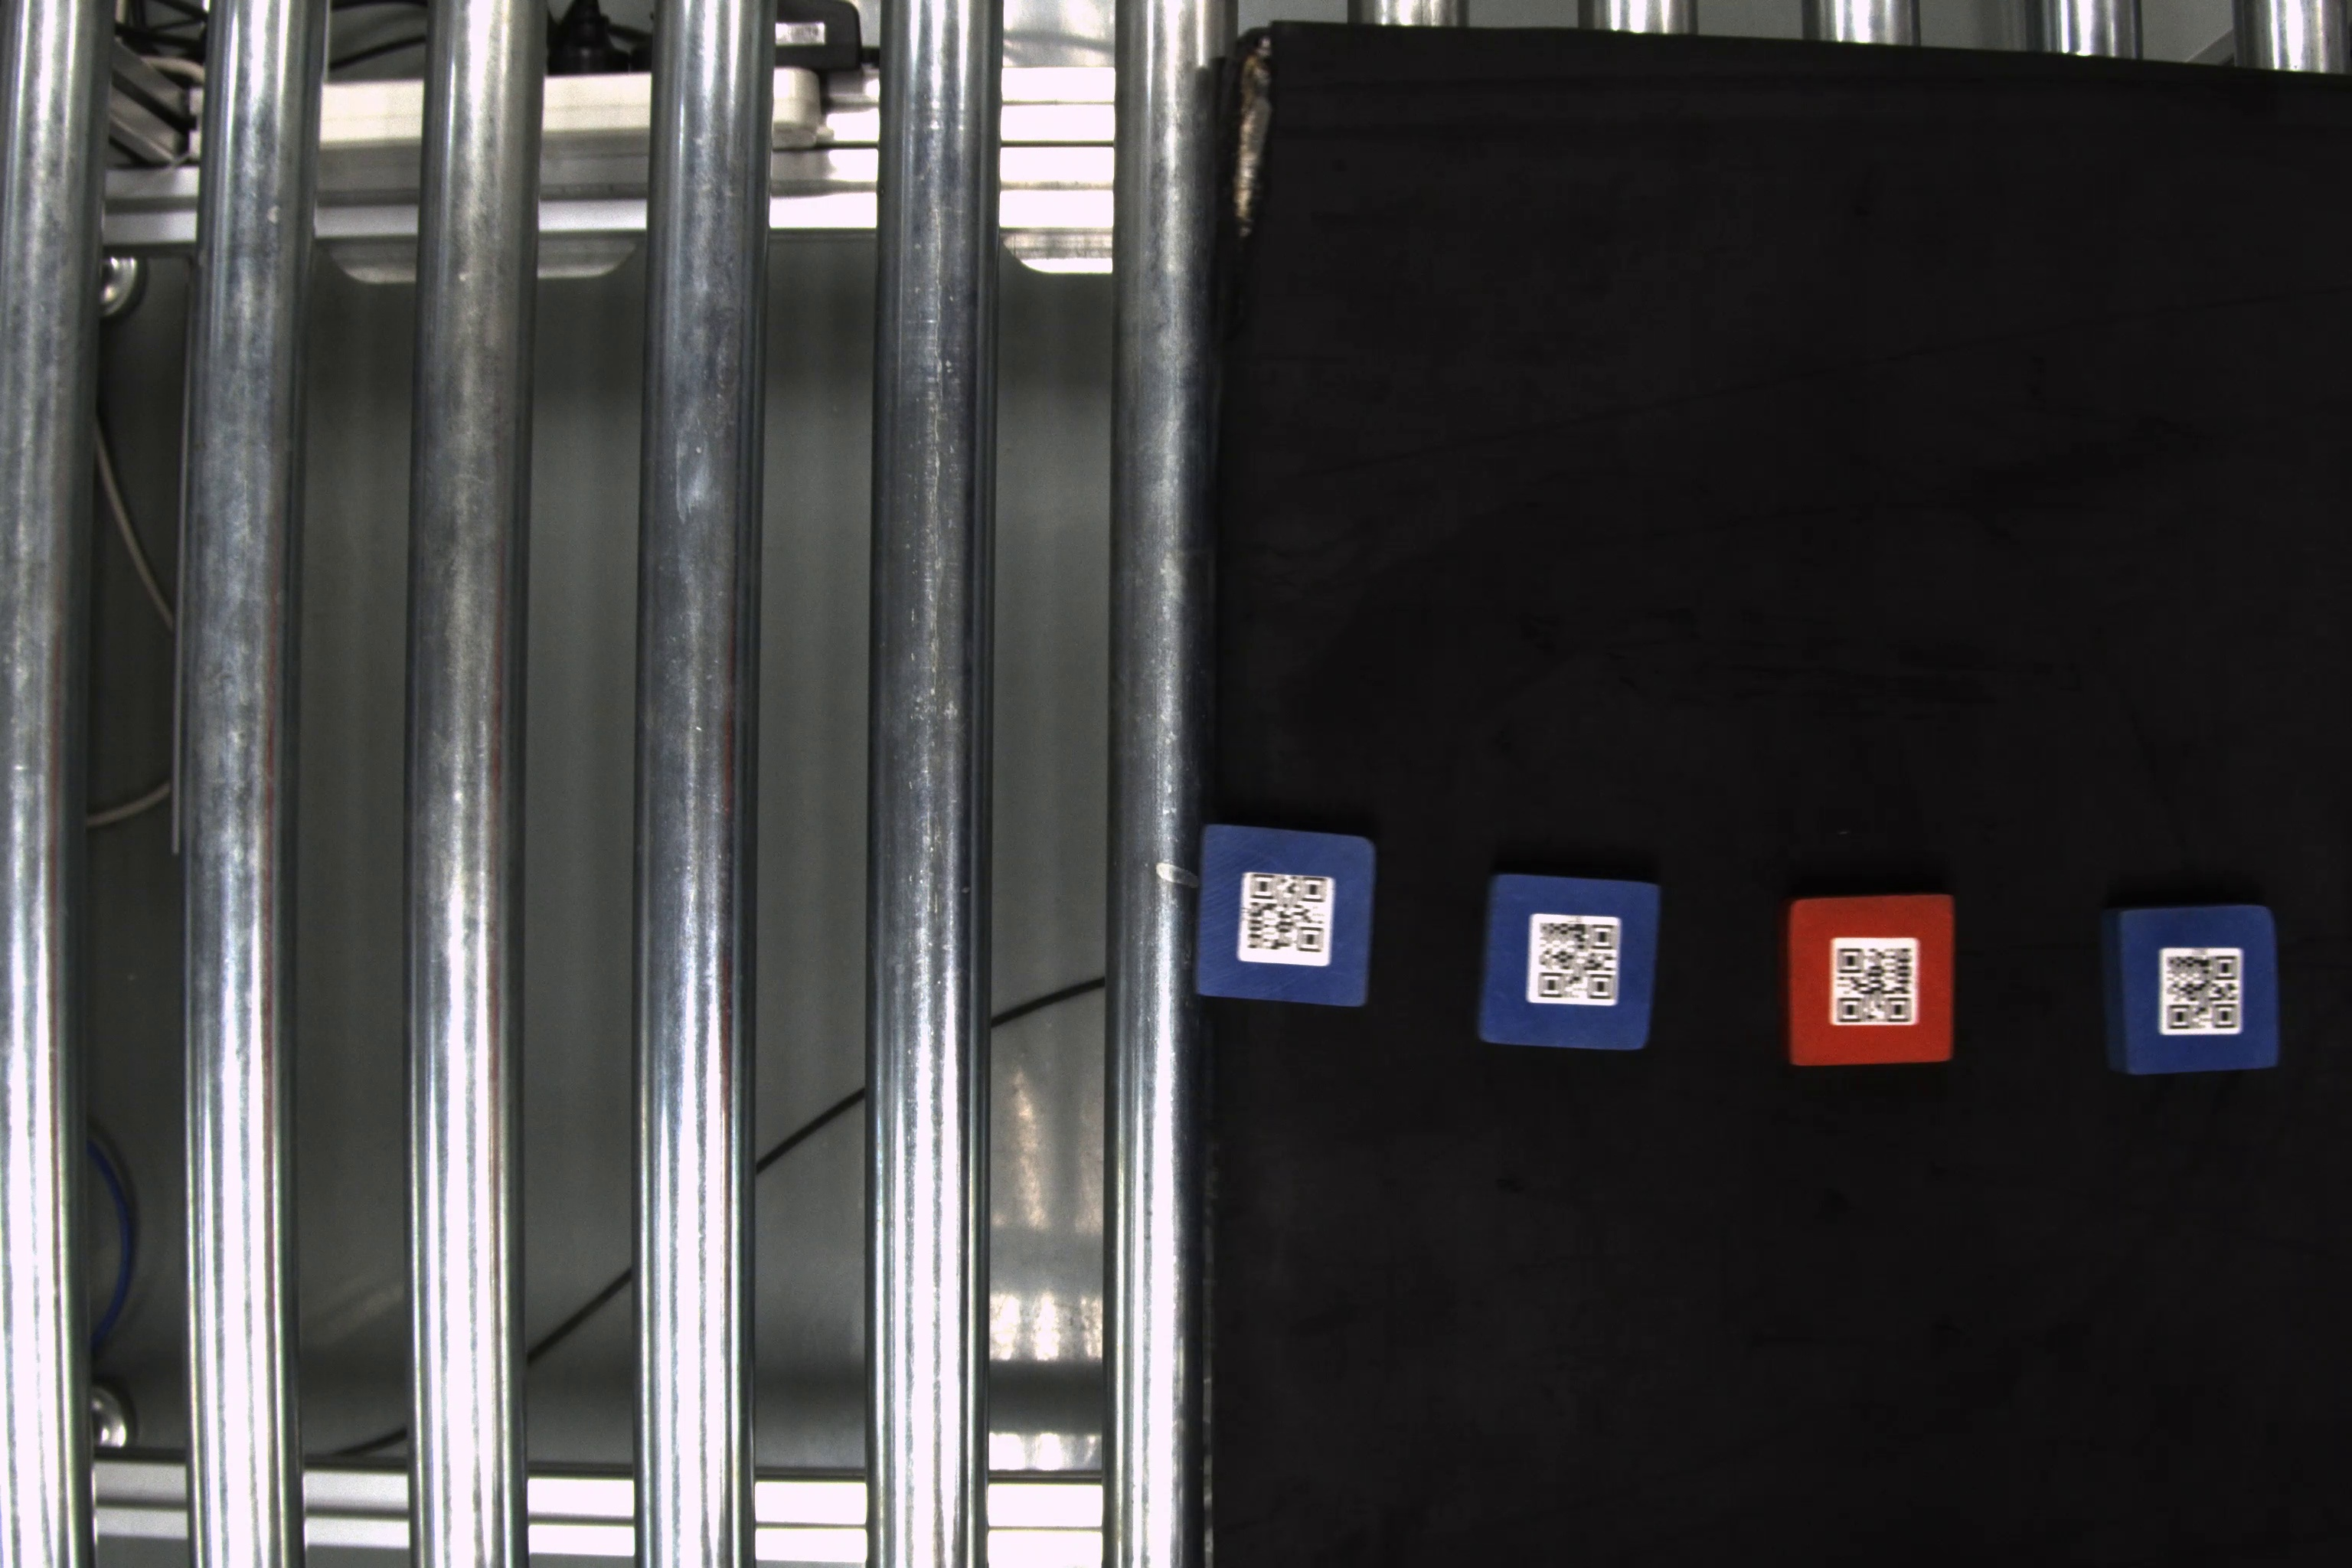wood: (1192, 815, 1379, 1015), (1776, 889, 1962, 1071), (2100, 901, 2289, 1071), (1484, 875, 1662, 1046)
